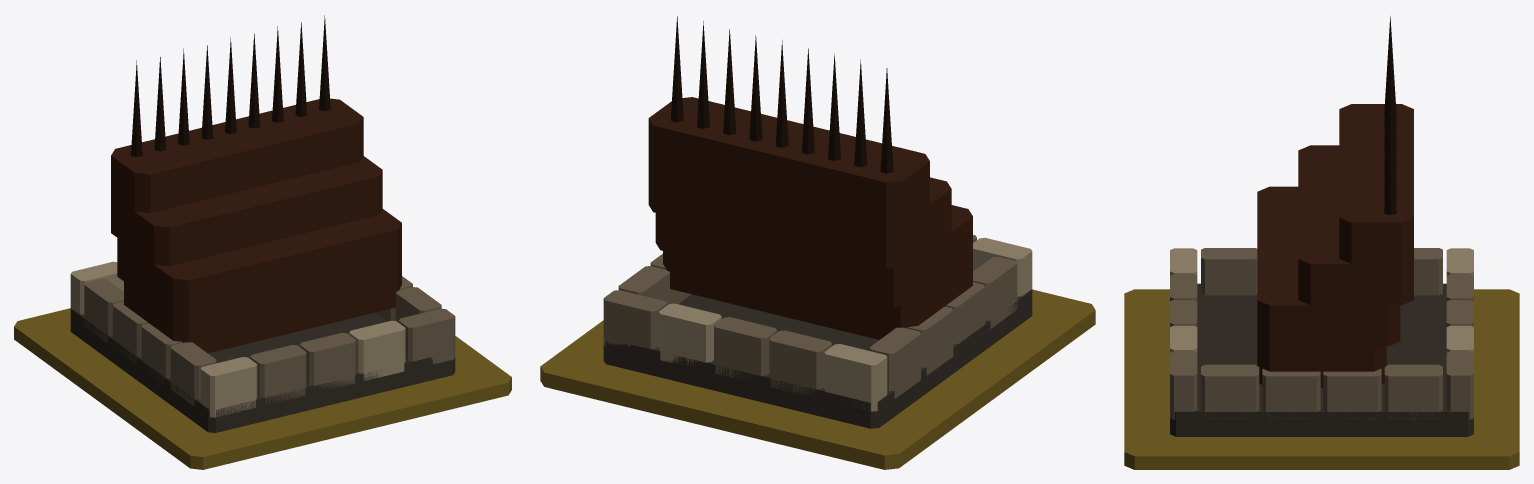
The model's file is rampart_t1.glb.
3 renders of one model, left to right at view 1: azimuth 30°, elevation 25°; view 2: azimuth 150°, elevation 25°; view 3: azimuth 270°, elevation 25°, orthographic. The views are drawn at different scales.
Parts seen in each view (by area): view 1: MMR | rampart | T01 Architecture.001, MMR | rampart | Tier 01 Ground.001; view 2: MMR | rampart | T01 Architecture.001, MMR | rampart | Tier 01 Ground.001; view 3: MMR | rampart | T01 Architecture.001, MMR | rampart | Tier 01 Ground.001.
Boxes of the visible parts, x1,y1,x2,y2 form: MMR | rampart | T01 Architecture.001: (70,15,455,432); MMR | rampart | Tier 01 Ground.001: (14,308,511,469); MMR | rampart | T01 Architecture.001: (603,16,1032,428); MMR | rampart | Tier 01 Ground.001: (540,289,1095,469); MMR | rampart | T01 Architecture.001: (1170,16,1473,436); MMR | rampart | Tier 01 Ground.001: (1124,289,1519,469).
Bounding box in the file's own units: 1.3 × 1.18 × 1.3.
1 material, 1 textured.
